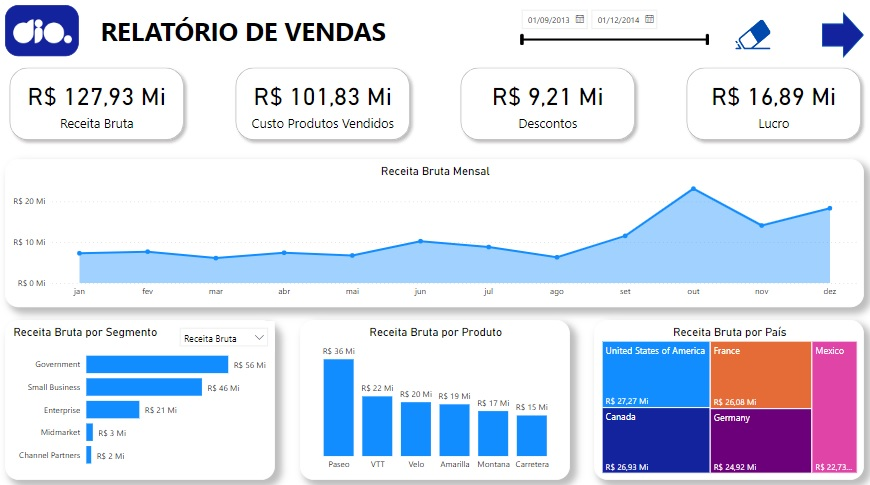

This screenshot's page, from the dashboard's own definition file:
{"tool":"powerbi","page":{"name":"Vendas","canvas":[1280,720],"ordinal":0},"visuals":[{"type":"cardVisual","title":"Receita Bruta","fields":{"Data":["_Medidas.$ Receita_Bruta"]},"box":[0,86.3,289.8,140.5],"z":0},{"type":"cardVisual","title":"Receita Bruta","fields":{"Data":["_Medidas.$ Lucro"]},"box":[990.2,86.3,289.8,140.5],"z":1000},{"type":"cardVisual","title":"Receita Bruta","fields":{"Data":["_Medidas.$ Descontos"]},"box":[660.5,86.3,289.8,140.5],"z":2000},{"type":"cardVisual","title":"Receita Bruta","fields":{"Data":["_Medidas.$ CPV"]},"box":[330.2,86.3,289.8,140.5],"z":3000},{"type":"areaChart","title":"Receita Bruta Mensal","fields":{"Category":["Calendario.Mes abrev"],"Y":["_Medidas.$ Receita_Bruta"]},"box":[10.2,237.1,1257.1,216.6],"z":4000},{"type":"clusteredBarChart","fields":{"Category":["Vendas.Segment"],"Y":["_Medidas.$ Receita_Bruta"]},"box":[10.2,472.7,395.1,234.1],"z":5000},{"type":"columnChart","fields":{"Category":["Vendas.Product"],"Y":["_Medidas.$ Receita_Bruta"]},"box":[441.2,472.7,395.1,234.1],"z":6000},{"type":"treemap","fields":{"Values":["_Medidas.$ Receita_Bruta"],"Group":["Vendas.Country"]},"box":[872.2,472.7,395.1,234.1],"z":7000},{"type":"image","box":[10.2,11.7,108.3,74.6],"z":8000},{"type":"textbox","box":[144.9,19,437.6,61.5],"z":9000},{"type":"slicer","fields":{"Values":["Vendas.Date"]},"box":[753.7,8.8,300,80.5],"z":10000},{"type":"image","box":[1074.1,20.5,61.5,68.8],"z":11000},{"type":"shape","box":[1205.9,22,61.5,67.3],"z":12000},{"type":"slicer","fields":{"Values":["Parâmetro.Parâmetro"]},"box":[256,473.4,149,47.3],"z":12001}]}

Visuals, with their boxes in screenshot pixels (x1, y1, x2, y2), scaled from the page's 1280x720 canvas onto the 870x485 screenshot:
"Receita Bruta" cardVisual: [0,58,197,153]
"Receita Bruta" cardVisual: [673,58,869,153]
"Receita Bruta" cardVisual: [449,58,646,153]
"Receita Bruta" cardVisual: [224,58,421,153]
"Receita Bruta Mensal" areaChart: [7,160,861,306]
clusteredBarChart - Vendas.Segment x _Medidas.$ Receita_Bruta: [7,318,275,476]
columnChart - Vendas.Product x _Medidas.$ Receita_Bruta: [300,318,568,476]
treemap - _Medidas.$ Receita_Bruta x Vendas.Country: [593,318,861,476]
image: [7,8,81,58]
textbox: [98,13,396,54]
slicer - Vendas.Date: [512,6,716,60]
image: [730,14,772,60]
shape: [820,15,861,60]
slicer - Parâmetro.Parâmetro: [174,319,275,351]
